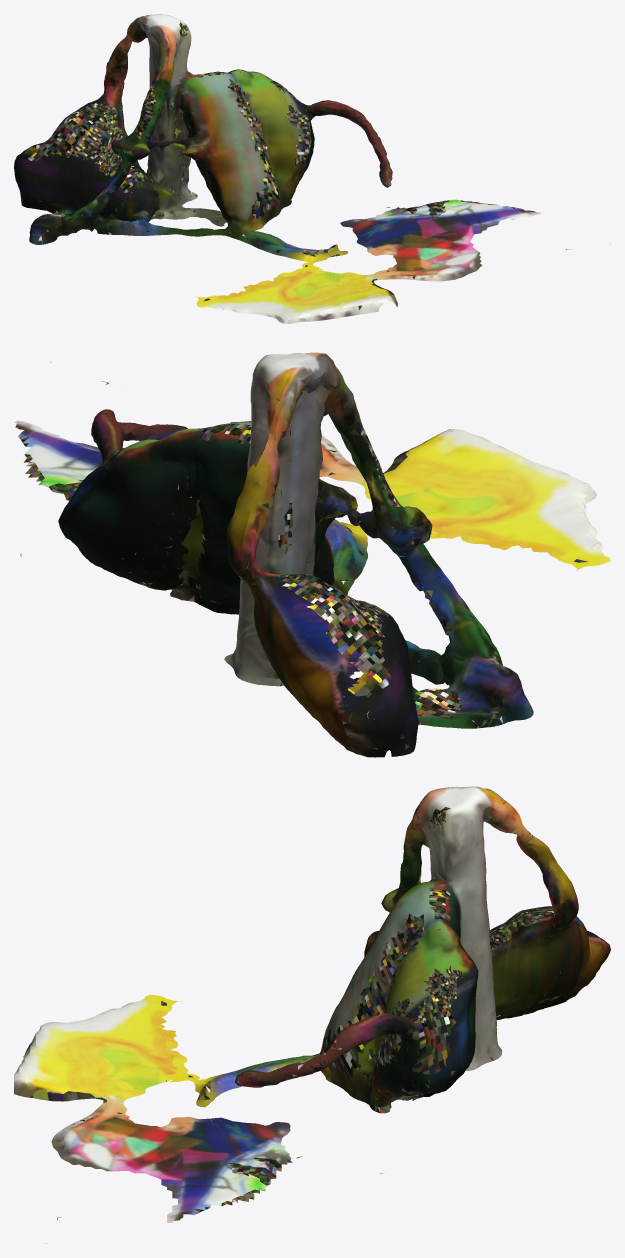
The model's file is scan1.obj.
3 views of the same model, one above another, from view 1: azimuth 30°, elevation 25°; view 2: azimuth 150°, elevation 25°; view 3: azimuth 270°, elevation 25° (orthographic). The views are drawn at different scales.
Visible parts, largest first — view 1: twinning.001_twinning.001_material0, twinning.001_twinning.001__0.001, twinning.001_twinning.001_m2, twinning.001_twinning.001__0_; view 2: twinning.001_twinning.001_material0, twinning.001_twinning.001__0.001, twinning.001_twinning.001_m2, twinning.001_twinning.001__0_; view 3: twinning.001_twinning.001_material0, twinning.001_twinning.001__0.001, twinning.001_twinning.001_m2, twinning.001_twinning.001__0_.
Boxes of the visible parts, left/top/right/bottom form: twinning.001_twinning.001_material0: left=14, top=14, right=537, bottom=319; twinning.001_twinning.001__0.001: left=14, top=14, right=610, bottom=323; twinning.001_twinning.001_m2: left=23, top=22, right=533, bottom=301; twinning.001_twinning.001__0_: left=15, top=32, right=415, bottom=309; twinning.001_twinning.001_material0: left=22, top=352, right=599, bottom=757; twinning.001_twinning.001__0.001: left=14, top=352, right=610, bottom=755; twinning.001_twinning.001_m2: left=15, top=398, right=587, bottom=739; twinning.001_twinning.001__0_: left=21, top=383, right=531, bottom=750; twinning.001_twinning.001_material0: left=14, top=786, right=610, bottom=1220; twinning.001_twinning.001__0.001: left=14, top=786, right=605, bottom=1243; twinning.001_twinning.001_m2: left=30, top=802, right=579, bottom=1221; twinning.001_twinning.001__0_: left=80, top=814, right=581, bottom=1174.
Size of the model in its own units: 15.63 by 6.41 by 13.65.
